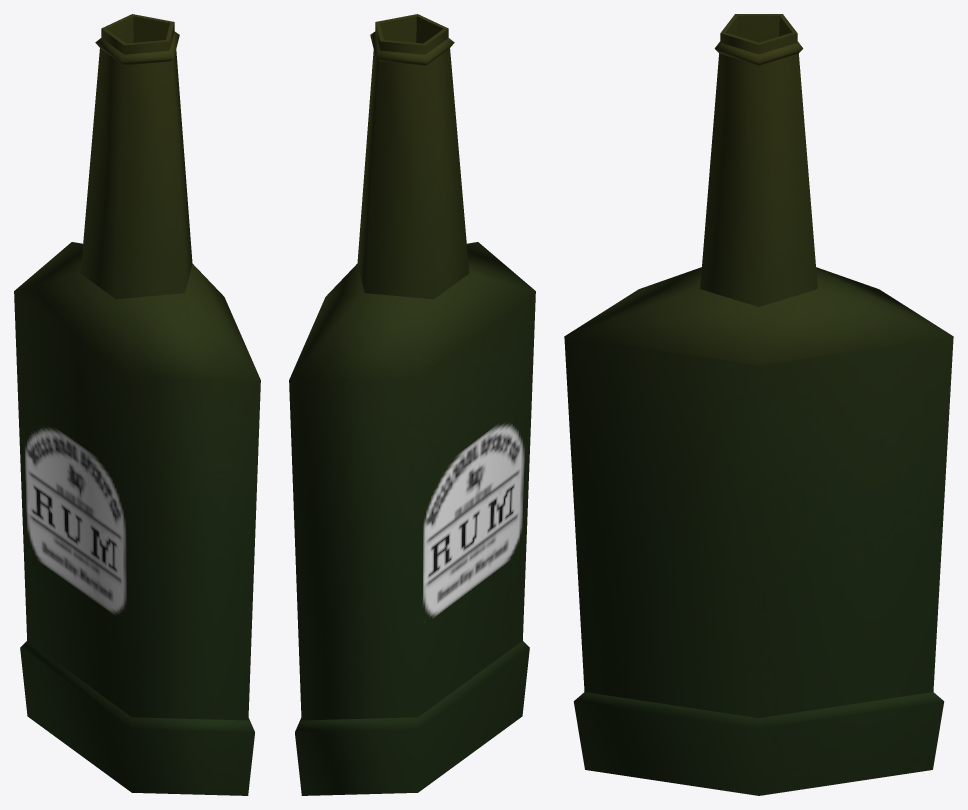
File: Rum.fbx
3 renders of one model, left to right at view 1: azimuth 30°, elevation 25°; view 2: azimuth 150°, elevation 25°; view 3: azimuth 270°, elevation 25°, orthographic. The views are drawn at different scales.
Visible parts, largest first — view 1: Rum_Bottle; view 2: Rum_Bottle; view 3: Rum_Bottle.
Boxes of the visible parts, left/top/right/bottom form: Rum_Bottle: left=14, top=14, right=260, bottom=795; Rum_Bottle: left=289, top=14, right=535, bottom=795; Rum_Bottle: left=564, top=14, right=953, bottom=795.
Size of the model in its own units: 0.00302 by 0.0135 by 0.00651.
